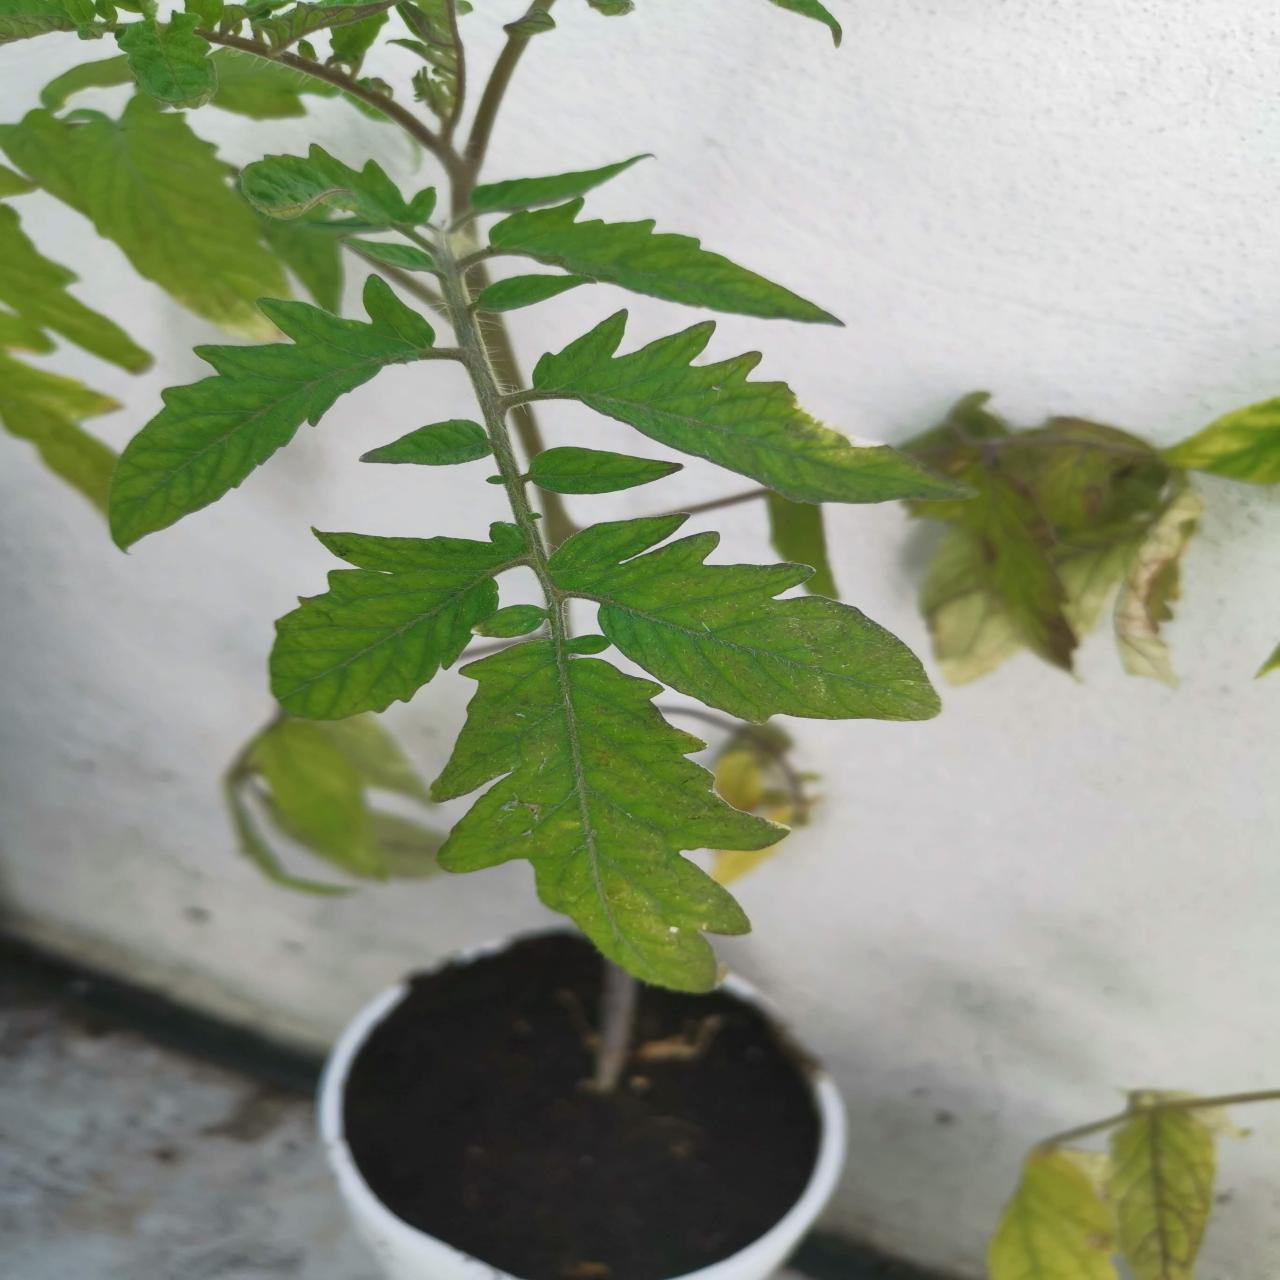T_L_R: (430, 636, 795, 994), (107, 273, 438, 559), (533, 309, 979, 506), (547, 515, 944, 726), (270, 523, 527, 722), (488, 196, 846, 331), (240, 145, 437, 234), (115, 12, 220, 110), (530, 447, 685, 495), (361, 420, 495, 467), (474, 274, 598, 313)
